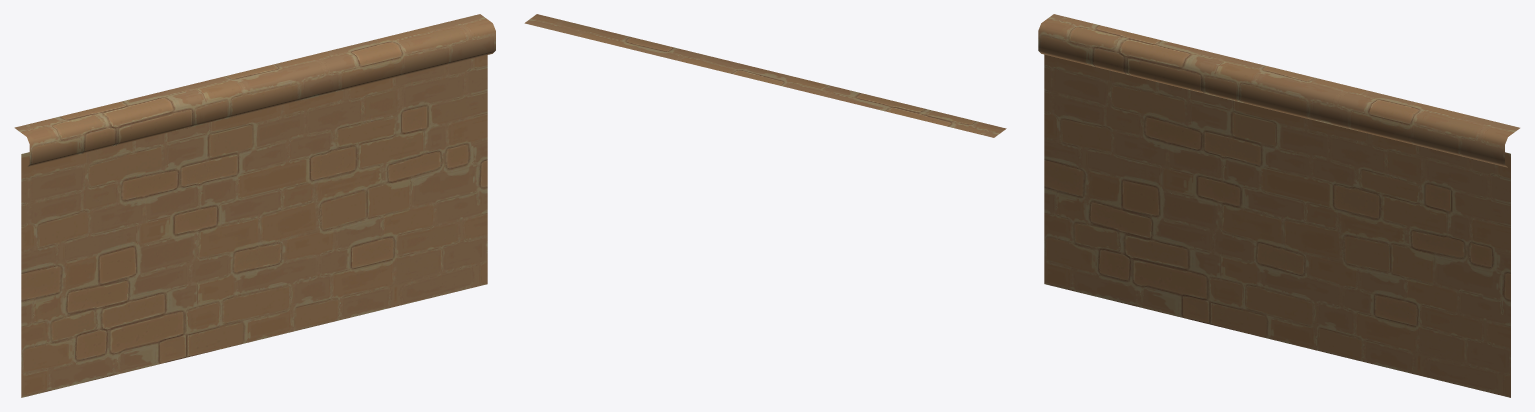
The model's file is SM_brick_building_23.glb.
The picture shows the model from 3 angles, left to right: view 1: azimuth 30°, elevation 25°; view 2: azimuth 150°, elevation 25°; view 3: azimuth 330°, elevation 25°; orthographic projection.
Visible parts, largest first — view 1: SM_brick_building_23; view 2: SM_brick_building_23; view 3: SM_brick_building_23.
Boxes of the visible parts, x1,y1,x2,y2 form: SM_brick_building_23: [14, 14, 495, 397]; SM_brick_building_23: [524, 14, 1006, 137]; SM_brick_building_23: [1038, 14, 1519, 397].
Bounding box in the file's own units: 3.21 × 1.73 × 0.1856.
1 material, 1 textured.
